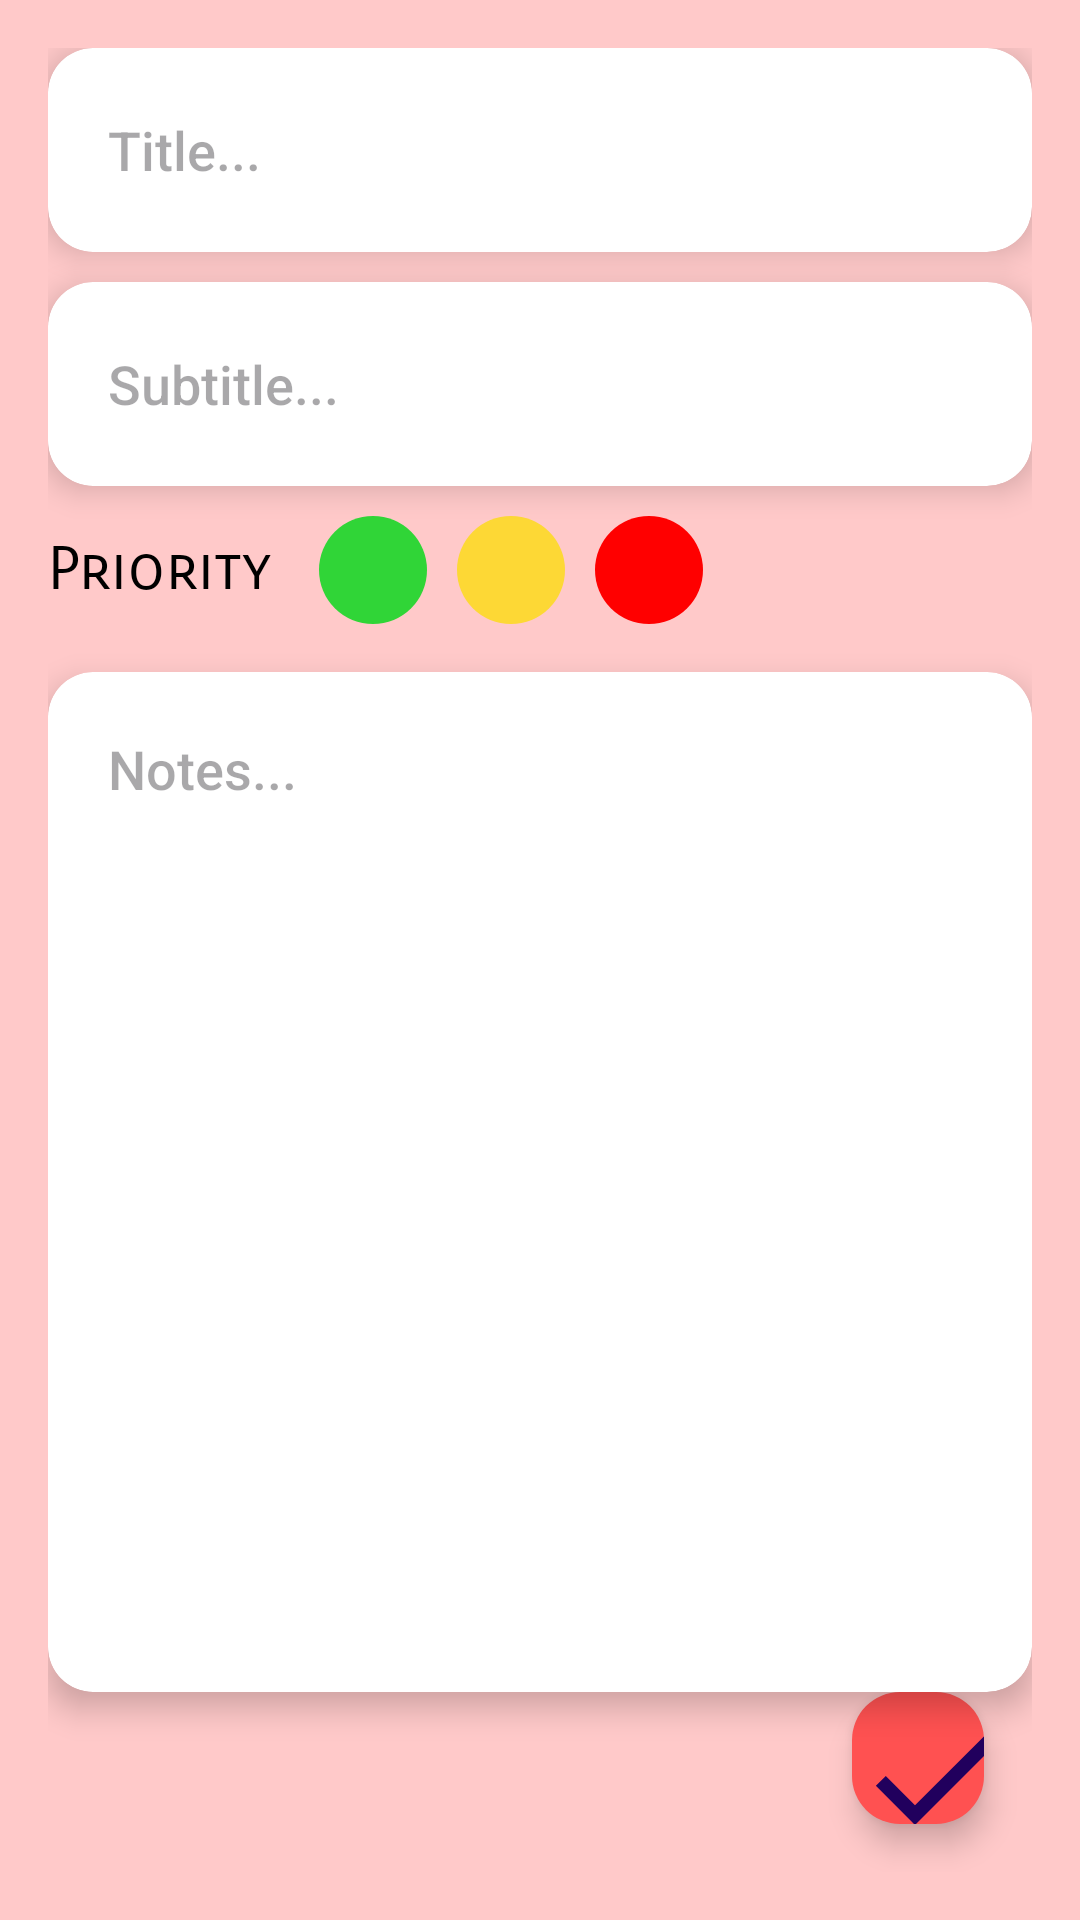

Icons on this 1080px×1920px Android screen, each with the point to tap as (x=x, y=y):
Update Note: (x=918, y=1758)
